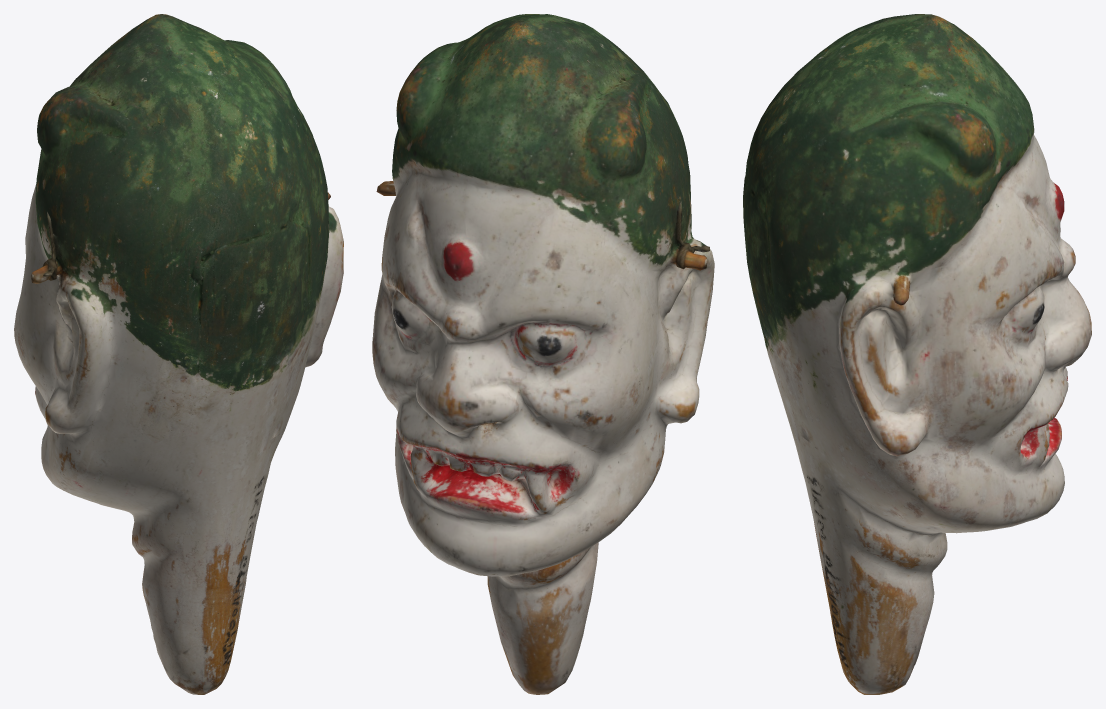
File: MTY004570.glb
3 renders of one model, left to right at view 1: azimuth 30°, elevation 25°; view 2: azimuth 150°, elevation 25°; view 3: azimuth 270°, elevation 25°, orthographic. The views are drawn at different scales.
Visible parts, largest first — view 1: MTY004570; view 2: MTY004570; view 3: MTY004570.
Part boxes in pixels (left/top/right/bottom): MTY004570: left=14, top=14, right=343, bottom=694; MTY004570: left=372, top=14, right=714, bottom=694; MTY004570: left=743, top=14, right=1091, bottom=694.
Size of the model in its own units: 27.58 by 56.65 by 26.64.
Materials: 1 (1 with a texture image).
